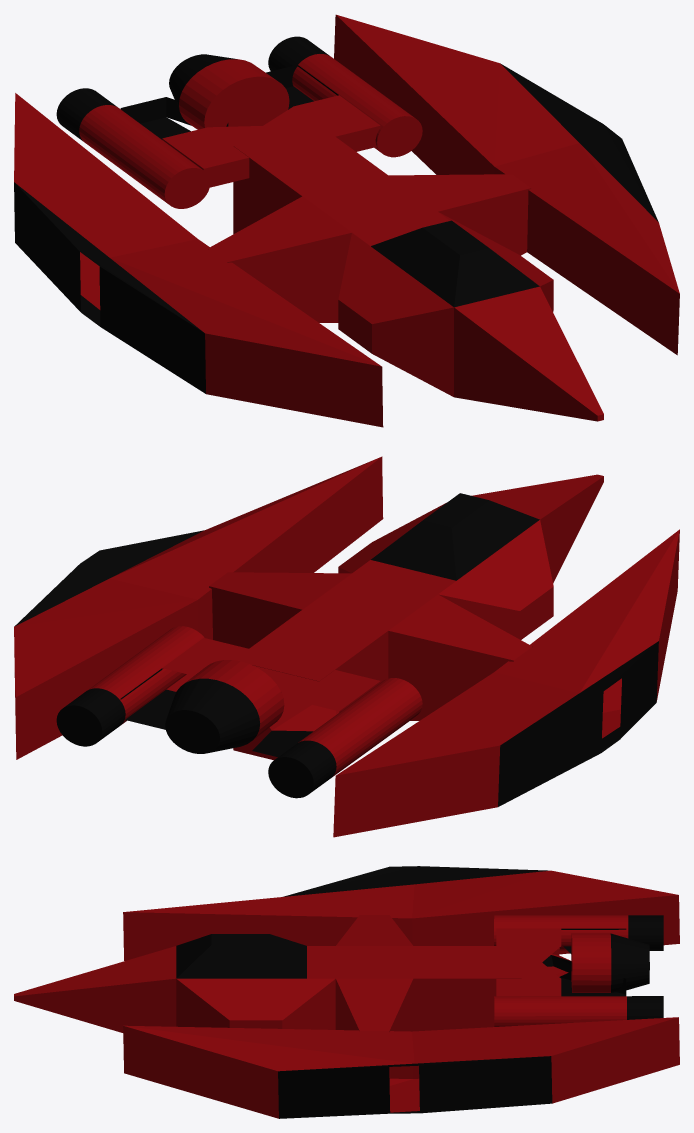
Rendered from miniboss.fbx.
3 renders of one model, top to bottom at view 1: azimuth 30°, elevation 25°; view 2: azimuth 150°, elevation 25°; view 3: azimuth 270°, elevation 25°, orthographic. The views are drawn at different scales.
Parts seen in each view (by area): view 1: Cube.001; view 2: Cube.001; view 3: Cube.001.
Part boxes in pixels (x1,y1,x2,y2): Cube.001: (14,14,679,427); Cube.001: (14,456,679,837); Cube.001: (14,866,679,1118).
Size of the model in its own units: 1218 by 273 by 1717.
